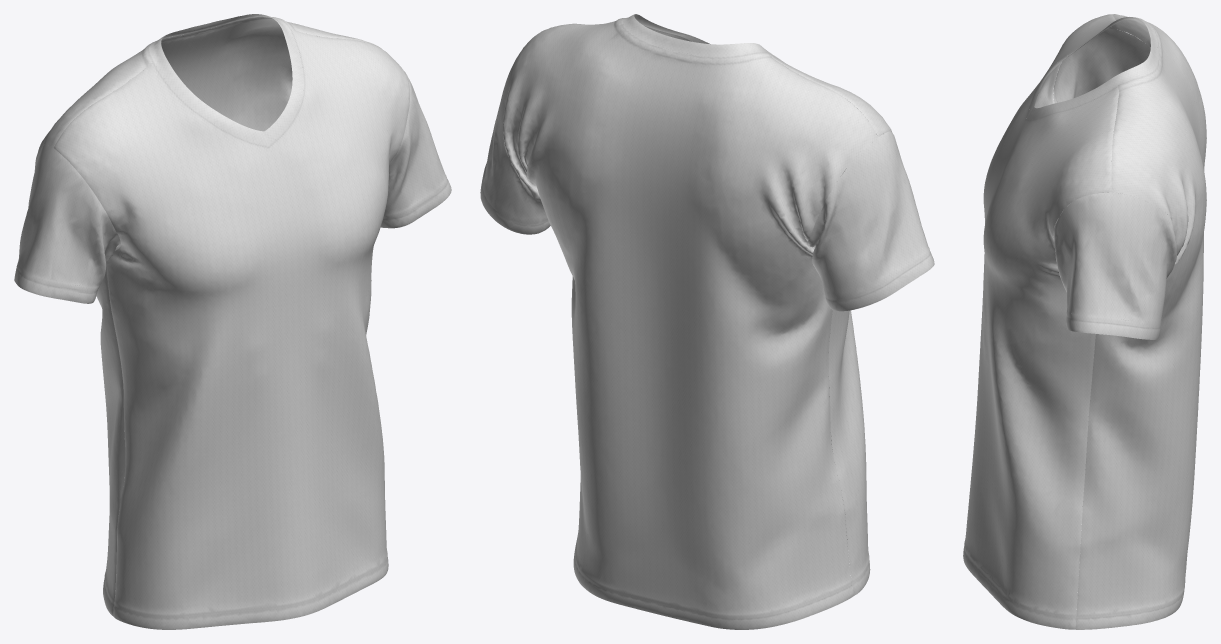
File: shirt.glb
3 renders of one model, left to right at view 1: azimuth 30°, elevation 25°; view 2: azimuth 150°, elevation 25°; view 3: azimuth 270°, elevation 25°, orthographic. The views are drawn at different scales.
Parts seen in each view (by area): view 1: 42, 9, 62, 38, Pattern2D_3805002; view 2: 9, 62, 42, 38, Pattern2D_3805002; view 3: 42, 9, 38, 62, Pattern2D_3805002.
Part boxes in pixels (x1=…): 42: x1=54, y1=28, x2=409, y2=629; 9: x1=38, y1=16, x2=381, y2=616; 62: x1=14, y1=144, x2=121, y2=303; 38: x1=380, y1=71, x2=451, y2=228; Pattern2D_3805002: x1=150, y1=14, x2=303, y2=145; 9: x1=506, y1=18, x2=877, y2=629; 62: x1=807, y1=131, x2=934, y2=311; 42: x1=537, y1=23, x2=892, y2=595; 38: x1=480, y1=56, x2=550, y2=234; Pattern2D_3805002: x1=622, y1=14, x2=780, y2=59; 42: x1=963, y1=14, x2=1119, y2=629; 9: x1=1075, y1=14, x2=1206, y2=629; 38: x1=1053, y1=192, x2=1176, y2=339; 62: x1=1053, y1=28, x2=1150, y2=103; Pattern2D_3805002: x1=1027, y1=17, x2=1157, y2=119.
Size of the model in its own units: 0.5655 by 0.6929 by 0.2855.
Materials: 2 (2 with a texture image).
